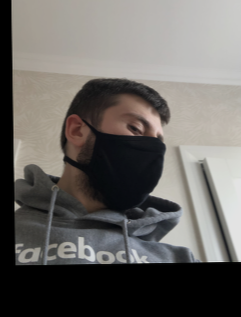with_mask: (92, 107, 165, 212)
